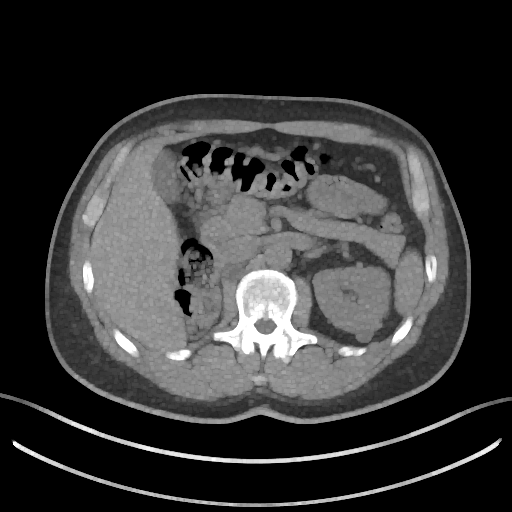Lesion: (351, 328, 377, 343)
